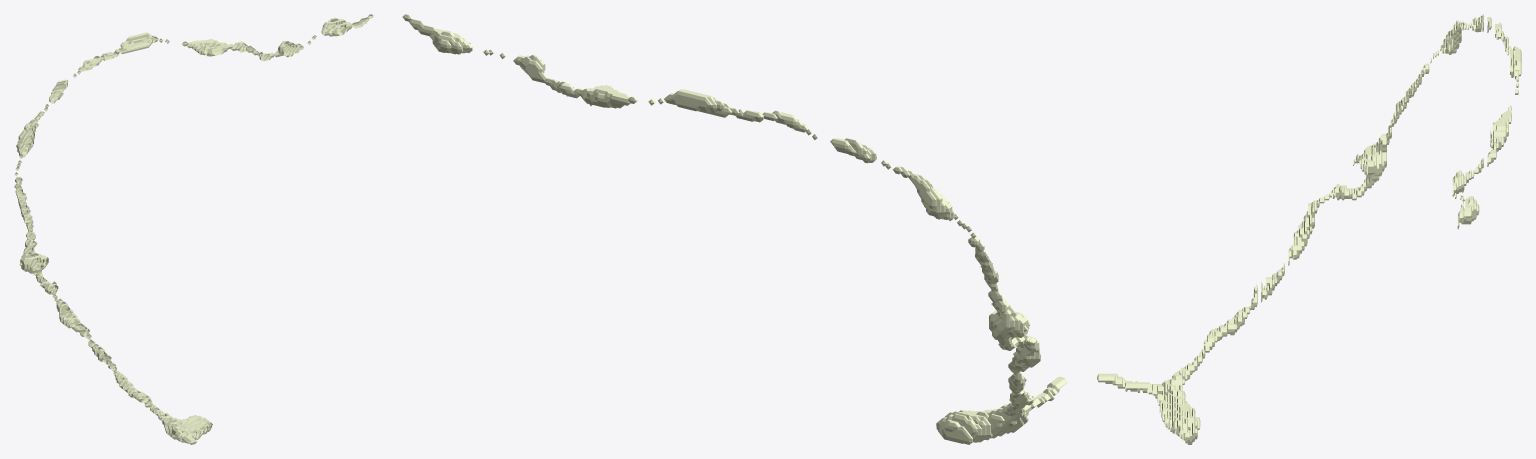
Rendered from SVV_AVJR.gltf.
The picture shows the model from 3 angles, left to right: view 1: azimuth 30°, elevation 25°; view 2: azimuth 150°, elevation 25°; view 3: azimuth 270°, elevation 25°; orthographic projection. The views are drawn at different scales.
Visible parts, largest first — view 1: AVJR; view 2: AVJR; view 3: AVJR.
Part boxes in pixels (x1,y1,x2,y2): AVJR: (14, 14, 373, 444); AVJR: (402, 14, 1068, 444); AVJR: (1097, 14, 1521, 444).
Bounding box in the file's own units: 96305 × 72217 × 65443.
